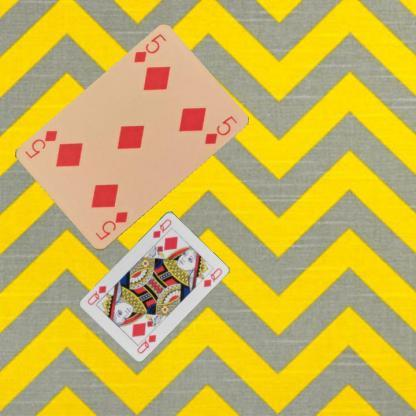5d: (130, 31, 168, 65), (92, 209, 130, 242)
Qd: (134, 327, 158, 355), (150, 216, 173, 239)
